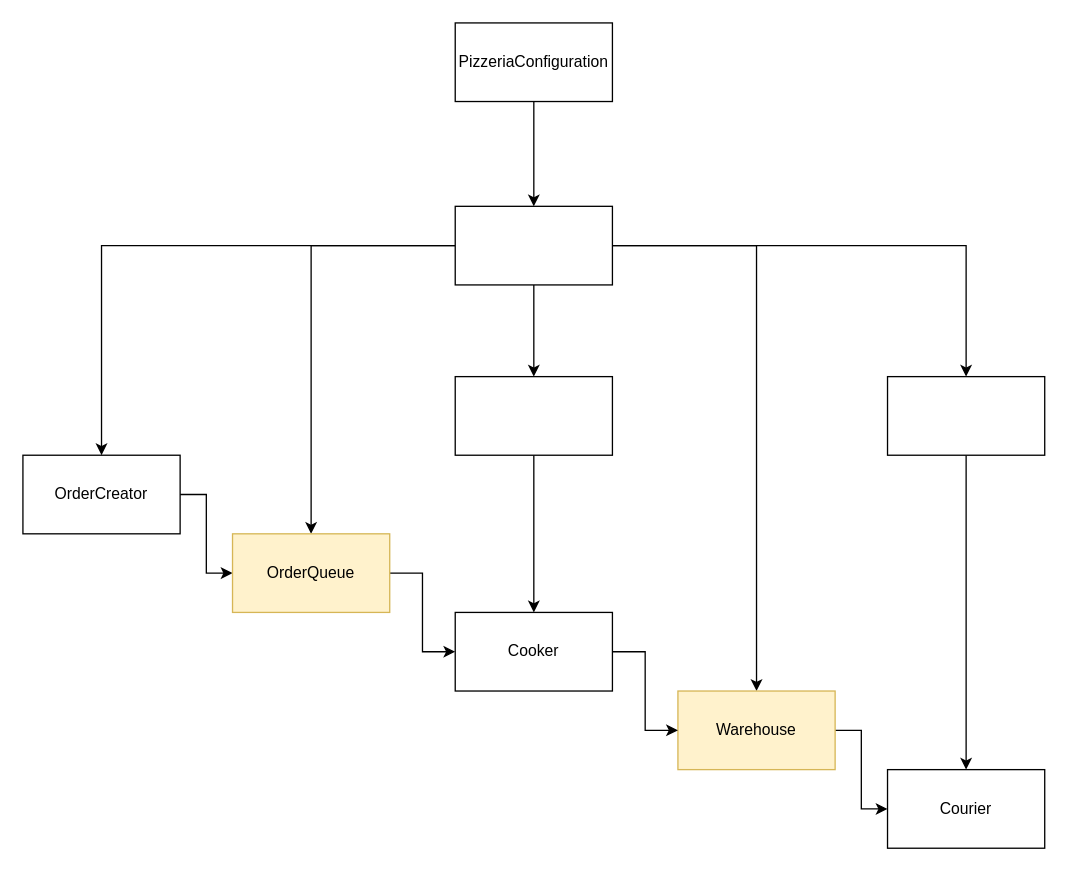
The diagram is 1068 pixels wide and 871 high, and some of its shapes have lost their labels. The box of each missing label's shape, as (x1, y1, x2, y2) in pixels:
CookProduction: (454, 375, 612, 455)
CourierProduction: (886, 375, 1045, 455)
PizzeriaProduction: (454, 205, 612, 285)
